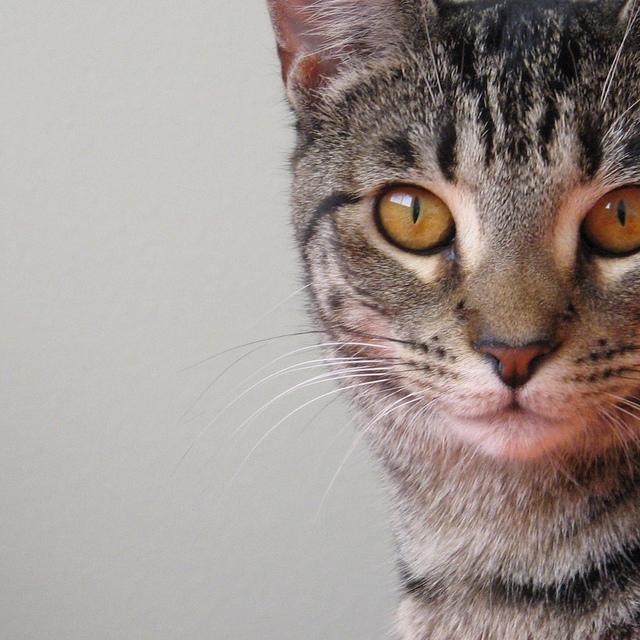animals: (276, 0, 640, 381)
